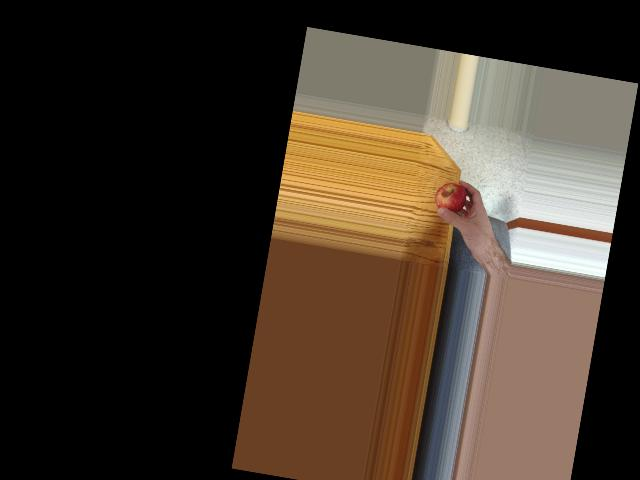apple: (432, 177, 469, 220)
